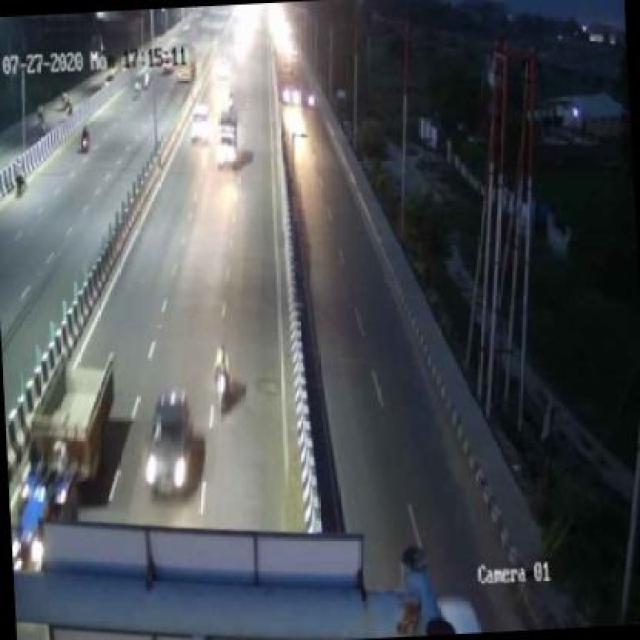car: (141, 390, 197, 492), (183, 100, 212, 140)
